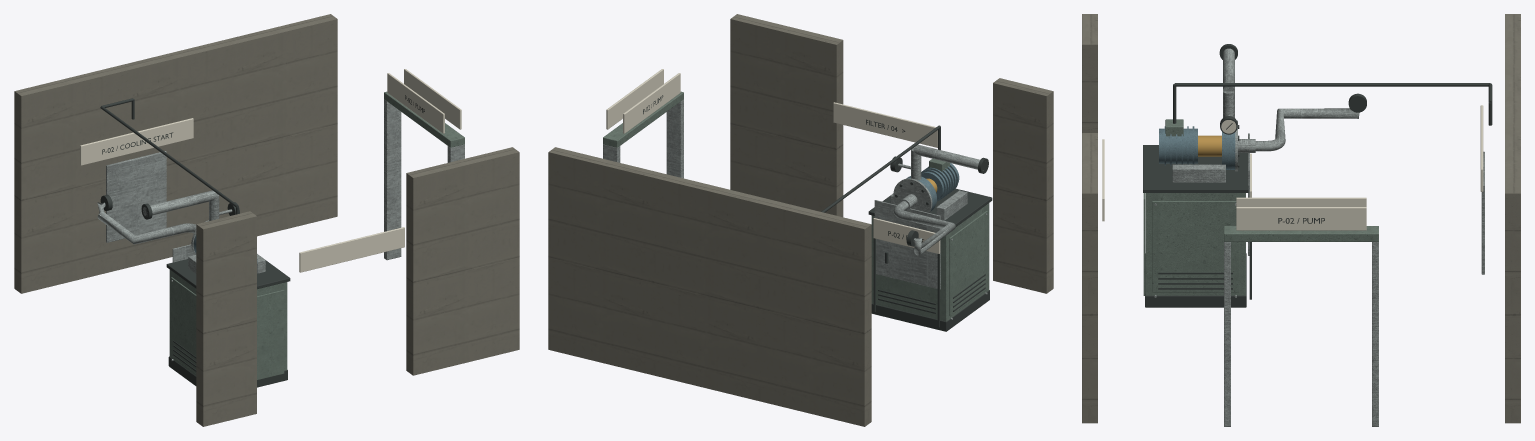
Rendered from power_pump.glb.
3 renders of one model, left to right at view 1: azimuth 30°, elevation 25°; view 2: azimuth 150°, elevation 25°; view 3: azimuth 270°, elevation 25°, orthographic. The views are drawn at different scales.
Parts seen in each view (by area): view 1: power_pump / power_plaster, power_pump / power_galvanized, power_pump / power_instrument_ivory, power_pump / power_sage_enamel, power_pump / power_blackened_steel; view 2: power_pump / power_plaster, power_pump / power_galvanized, power_pump / power_sage_enamel, power_pump / power_instrument_ivory, power_pump / power_blackened_steel, power_pump / power_pump_bluegray; view 3: power_pump / power_plaster, power_pump / power_sage_enamel, power_pump / power_blackened_steel, power_pump / power_galvanized, power_pump / power_instrument_ivory, power_pump / power_pump_bluegray, power_pump / power_isolation_ochre.
Part boxes in pixels (left/top/right/bottom): power_pump / power_plaster: left=14, top=14, right=519, bottom=426; power_pump / power_galvanized: left=97, top=99, right=464, bottom=360; power_pump / power_instrument_ivory: left=80, top=69, right=461, bottom=272; power_pump / power_sage_enamel: left=169, top=91, right=464, bottom=387; power_pump / power_blackened_steel: left=100, top=95, right=424, bottom=387; power_pump / power_plaster: left=548, top=14, right=1053, bottom=426; power_pump / power_galvanized: left=603, top=99, right=987, bottom=319; power_pump / power_sage_enamel: left=603, top=91, right=989, bottom=331; power_pump / power_instrument_ivory: left=606, top=69, right=940, bottom=253; power_pump / power_blackened_steel: left=643, top=95, right=992, bottom=331; power_pump / power_pump_bluegray: left=906, top=163, right=959, bottom=211; power_pump / power_plaster: left=1082, top=14, right=1520, bottom=423; power_pump / power_sage_enamel: left=1143, top=119, right=1378, bottom=307; power_pump / power_blackened_steel: left=1143, top=44, right=1492, bottom=307; power_pump / power_galvanized: left=1154, top=48, right=1484, bottom=426; power_pump / power_instrument_ivory: left=1102, top=105, right=1483, bottom=230; power_pump / power_pump_bluegray: left=1159, top=126, right=1235, bottom=169; power_pump / power_isolation_ochre: left=1198, top=135, right=1221, bottom=156.
Size of the model in its own units: 6.2 by 3.61 by 6.23.
7 materials, 4 textured.
